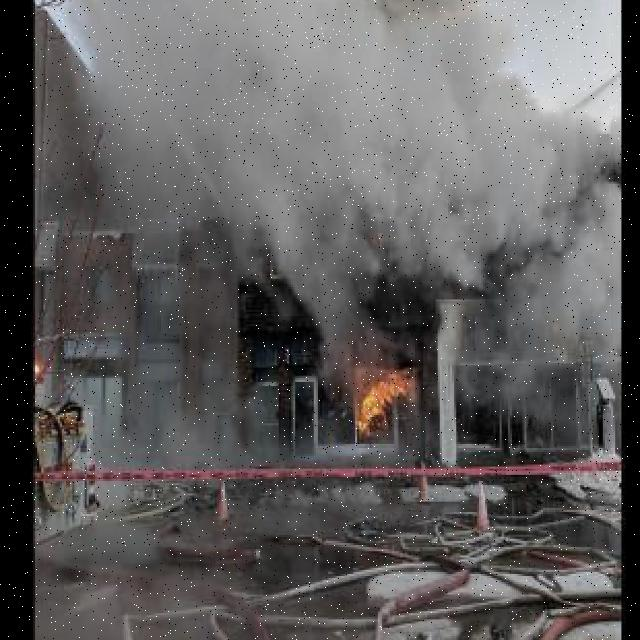fire: (353, 353, 409, 448)
smoke: (407, 84, 621, 398), (72, 184, 268, 466), (266, 186, 405, 353)
